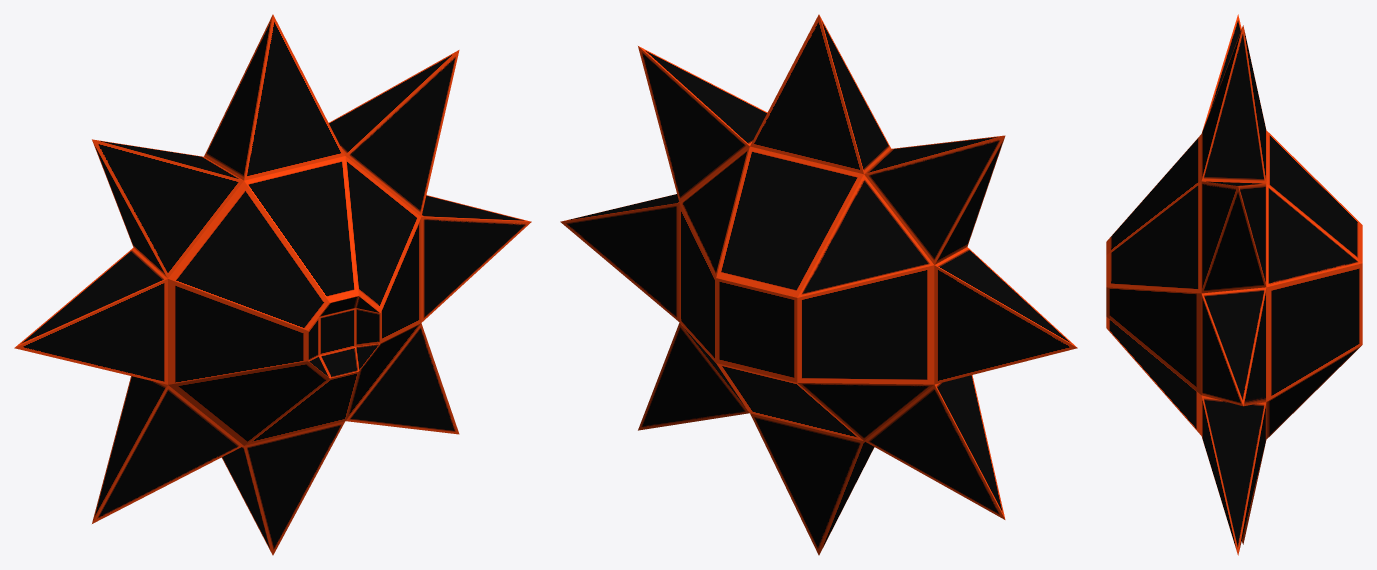
The model's file is Spyware.fbx.
3 views of the same model, side by side, from view 1: azimuth 30°, elevation 25°; view 2: azimuth 150°, elevation 25°; view 3: azimuth 270°, elevation 25° (orthographic). The views are drawn at different scales.
Parts seen in each view (by area): view 1: Spyware; view 2: Spyware; view 3: Spyware.
Part boxes in pixels (x1=…): Spyware: x1=14, y1=14, x2=531, y2=555; Spyware: x1=560, y1=14, x2=1077, y2=555; Spyware: x1=1106, y1=14, x2=1362, y2=555.
Bounding box in the file's own units: 2.25 × 2.25 × 1.01.
Materials: 1 (1 with a texture image).
